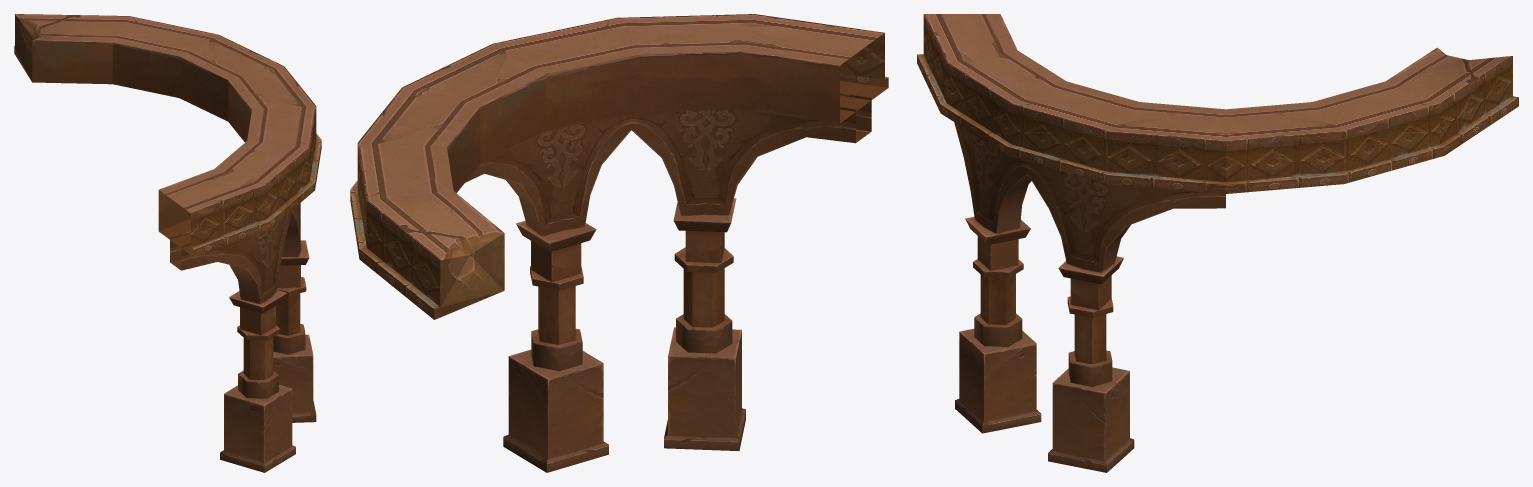
Rendered from guchengqishituan_BOSS_C_01_a.FBX.
3 renders of one model, left to right at view 1: azimuth 30°, elevation 25°; view 2: azimuth 150°, elevation 25°; view 3: azimuth 270°, elevation 25°, orthographic. The views are drawn at different scales.
Parts seen in each view (by area): view 1: guchengqishituan_BOSS_C_01_a; view 2: guchengqishituan_BOSS_C_01_a; view 3: guchengqishituan_BOSS_C_01_a.
Boxes of the visible parts, box(x1,y1,x2,y2) form: guchengqishituan_BOSS_C_01_a: box(14, 14, 321, 472); guchengqishituan_BOSS_C_01_a: box(350, 14, 888, 472); guchengqishituan_BOSS_C_01_a: box(917, 14, 1518, 472).
Size of the model in its own units: 5.65 by 6.95 by 11.
